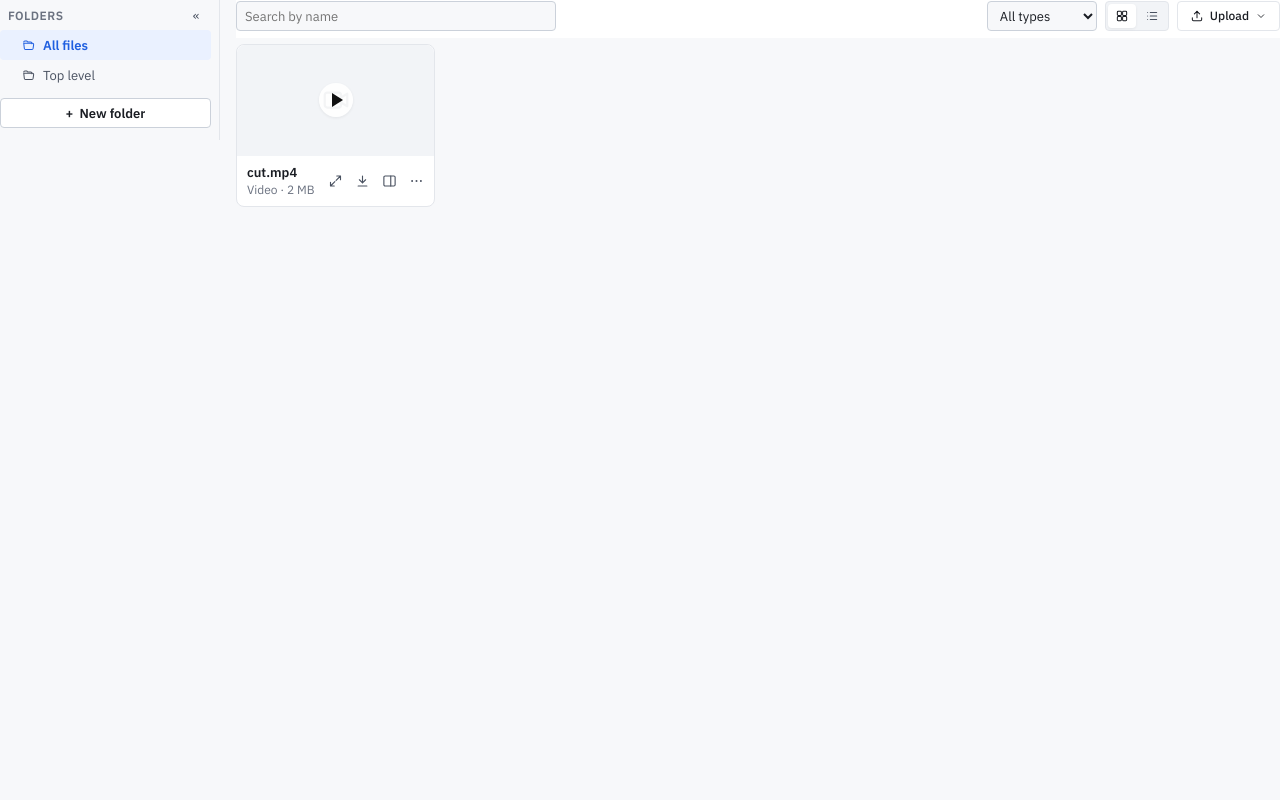
Test: Delete › brings the card back with an error when the delete fails
The width and height of the screenshot is (1280, 800).
Click the button named "More for cut.mp4". click: (417, 181)
box: [403, 167, 430, 194]
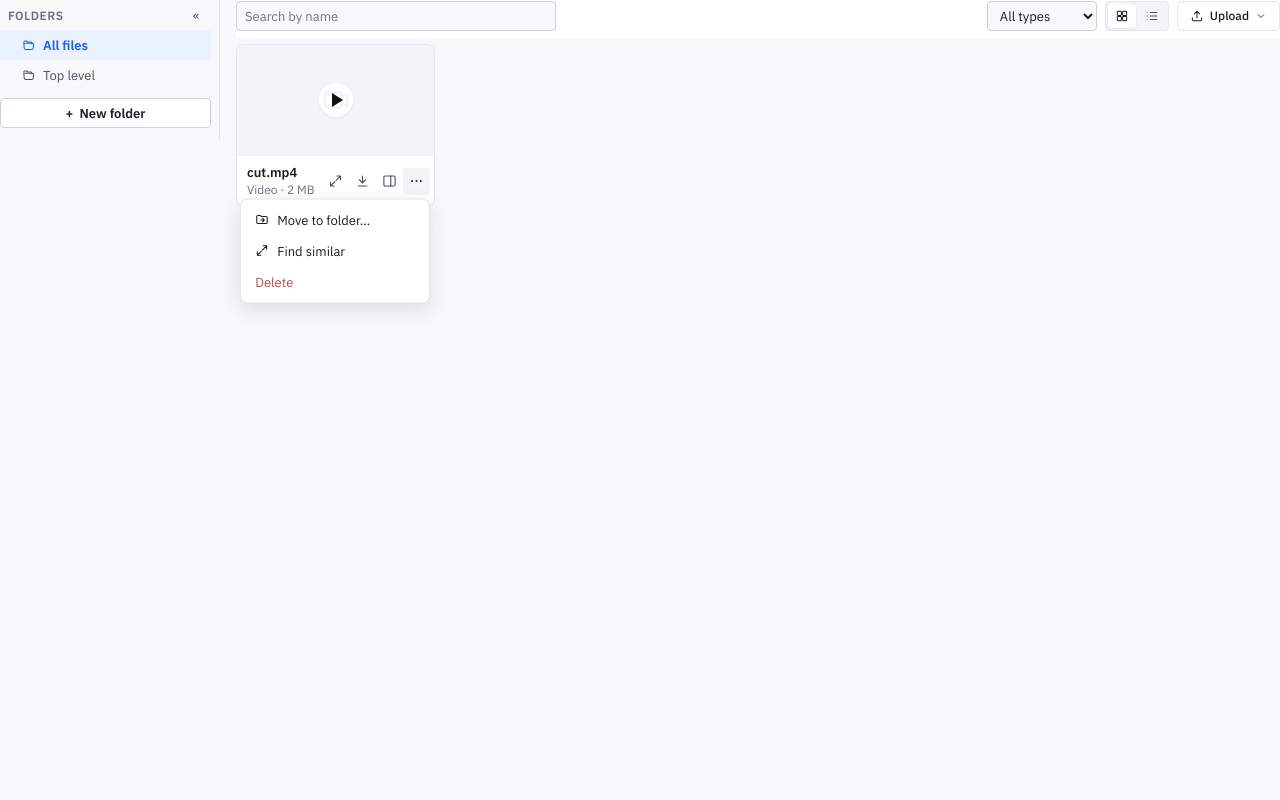
Click the menu item "Delete". click: (335, 282)
box: [246, 266, 424, 297]
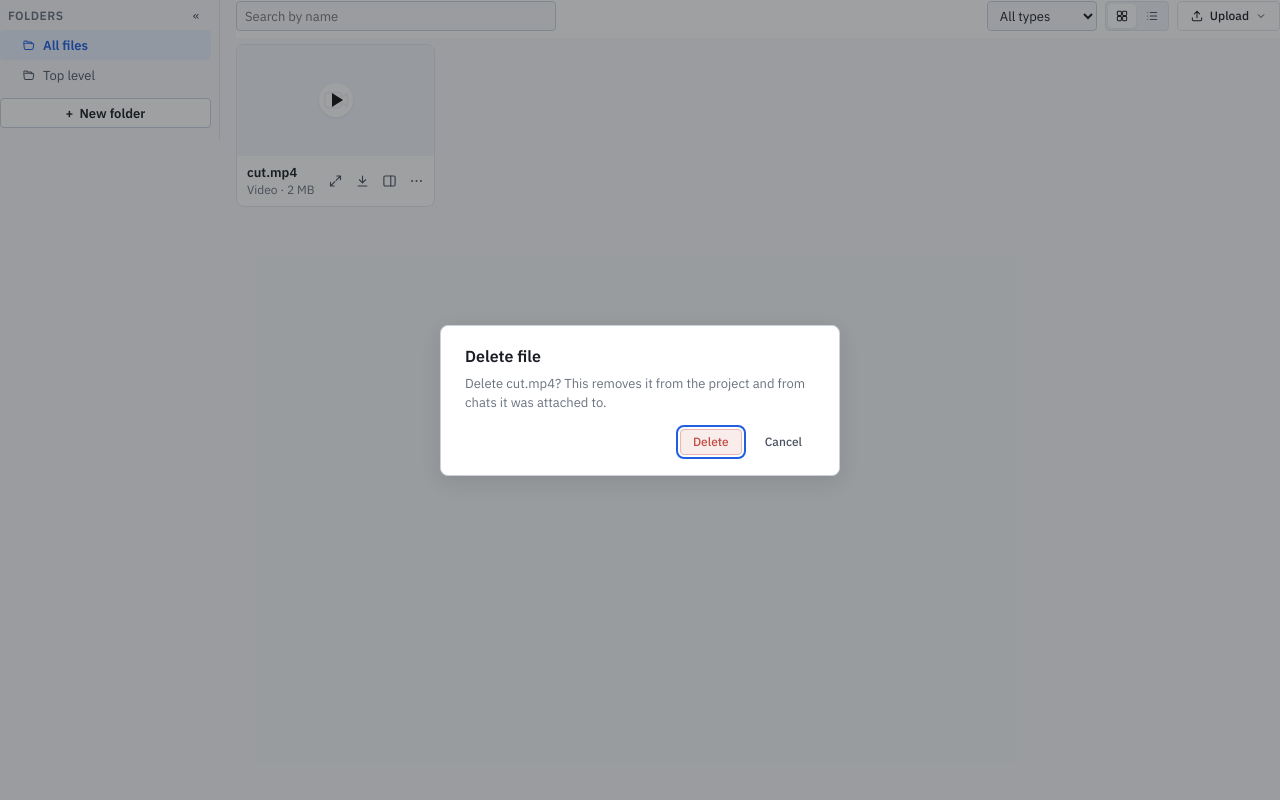
Click the button "Delete". click: (711, 442)
box: [680, 428, 742, 454]
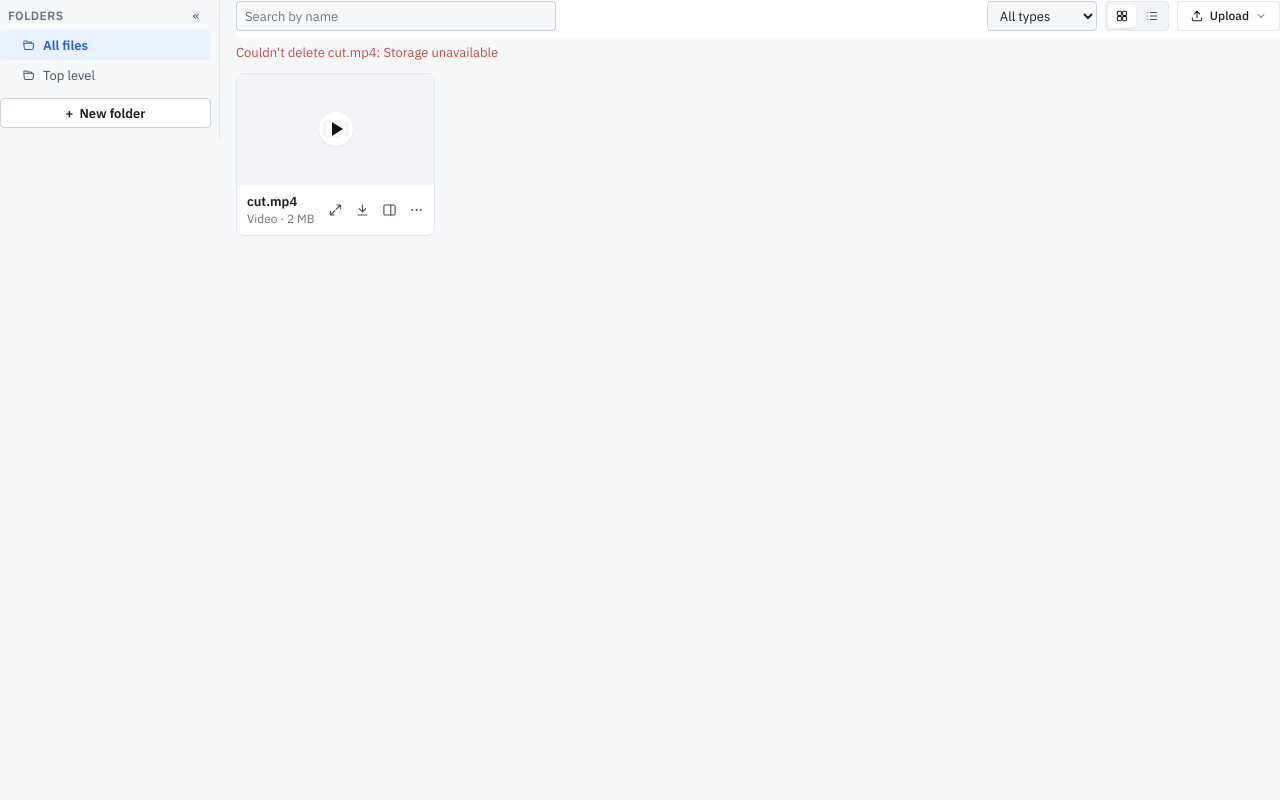
Expected: the number of list items with test id "asset-card" is 1, [236, 73, 435, 236]
Now the message reads "Couldn't delete cut.mp4: Storage unavailable", box [236, 44, 498, 61]
